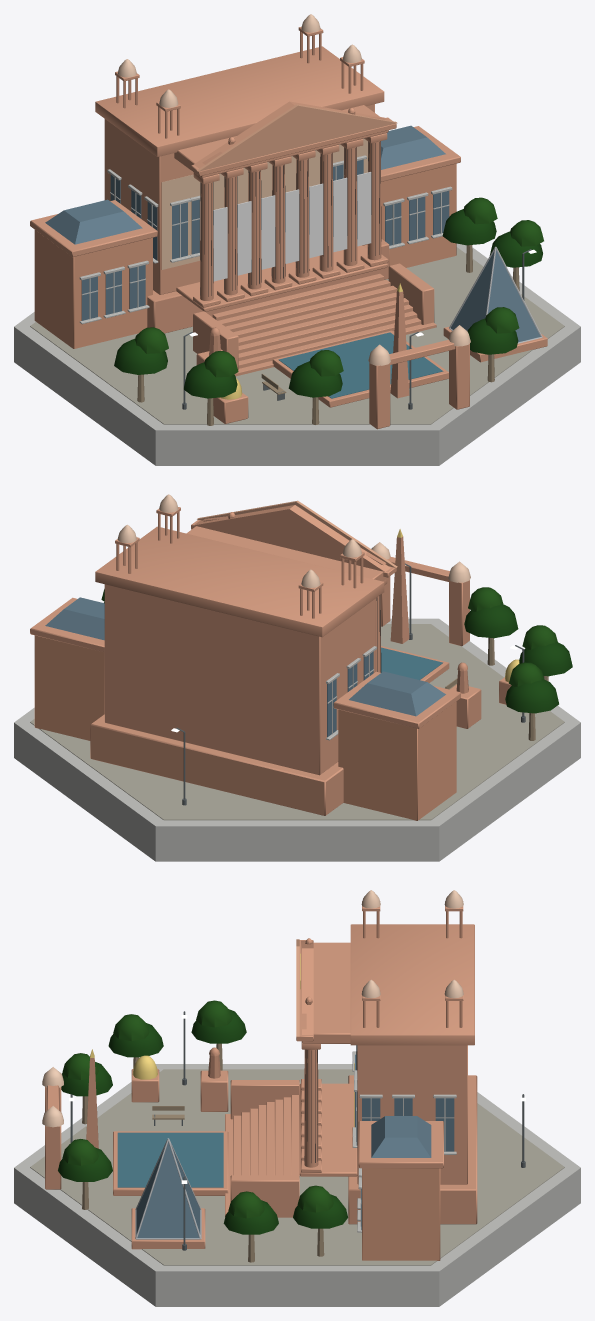
File: museum_india.glb
The picture shows the model from 3 angles, top to bottom: view 1: azimuth 30°, elevation 25°; view 2: azimuth 150°, elevation 25°; view 3: azimuth 270°, elevation 25°; orthographic projection.
Visible parts, largest first — view 1: stone, wall_concrete, pavers, glass, leaf, banner, plaster, dark, wood, steel_dark, metal; view 2: stone, wall_concrete, pavers, glass, leaf, plaster, steel_dark, wood; view 3: stone, wall_concrete, pavers, glass, leaf, plaster, wood, metal, steel_dark, gold.
Part boxes in pixels (x1=…): stone: x1=30, y1=26, x2=547, y2=429; wall_concrete: x1=14, y1=155, x2=580, y2=465; pavers: x1=30, y1=247, x2=564, y2=424; glass: x1=45, y1=125, x2=540, y2=398; leaf: x1=114, y1=197, x2=543, y2=398; banner: x1=213, y1=172, x2=371, y2=281; plaster: x1=117, y1=14, x2=470, y2=365; dark: x1=200, y1=141, x2=381, y2=296; wood: x1=137, y1=245, x2=519, y2=425; steel_dark: x1=182, y1=249, x2=531, y2=409; metal: x1=449, y1=246, x2=542, y2=343; stone: x1=30, y1=500, x2=511, y2=820; wall_concrete: x1=14, y1=618, x2=580, y2=861; pavers: x1=30, y1=624, x2=564, y2=820; glass: x1=45, y1=597, x2=445, y2=737; leaf: x1=101, y1=587, x2=572, y2=713; plaster: x1=117, y1=494, x2=470, y2=587; steel_dark: x1=176, y1=563, x2=525, y2=805; wood: x1=445, y1=637, x2=548, y2=740; stone: x1=45, y1=901, x2=477, y2=1260; wall_concrete: x1=14, y1=1045, x2=580, y2=1306; pavers: x1=30, y1=1069, x2=564, y2=1265; glass: x1=117, y1=1045, x2=454, y2=1238; leaf: x1=58, y1=1000, x2=347, y2=1234; plaster: x1=42, y1=890, x2=463, y2=1127; wood: x1=82, y1=1043, x2=324, y2=1262; metal: x1=135, y1=1138, x2=201, y2=1239; steel_dark: x1=70, y1=1011, x2=525, y2=1250; gold: x1=90, y1=953, x2=354, y2=1127.
Size of the model in its own units: 21.94 by 12.85 by 24.6.
